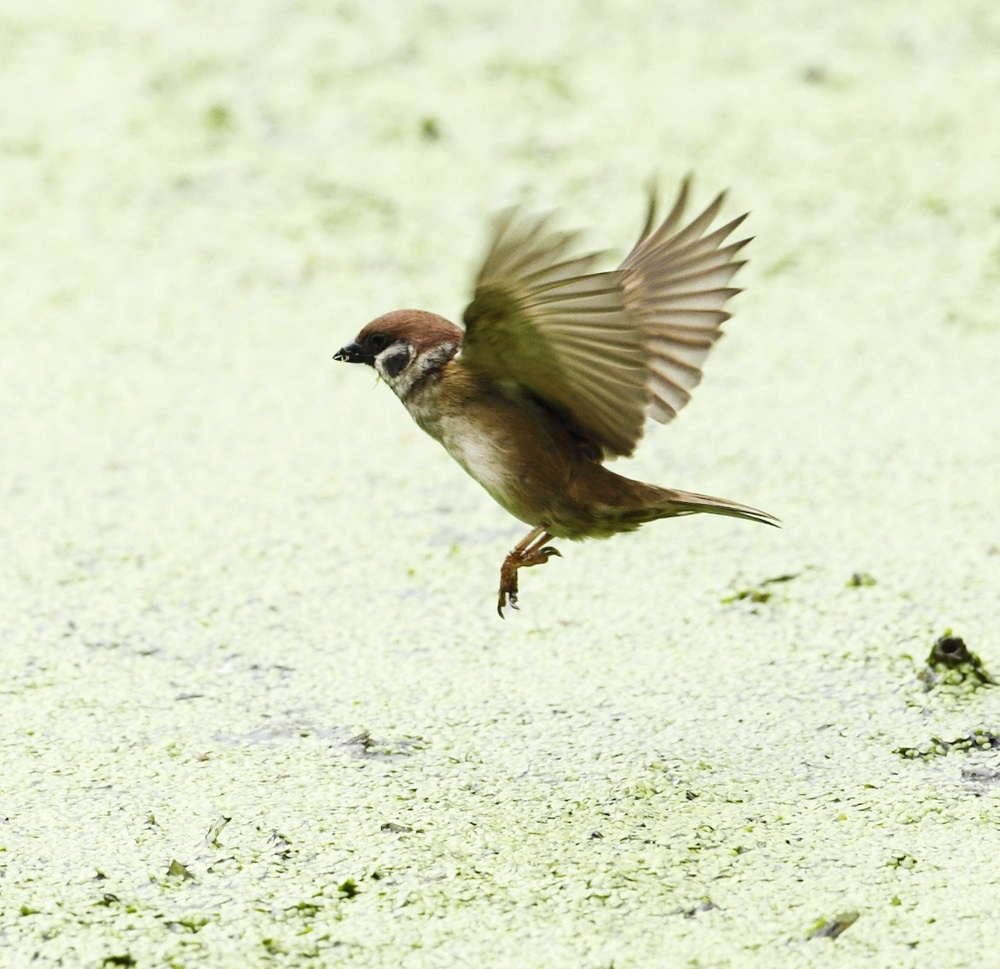bird: (289, 183, 791, 617)
